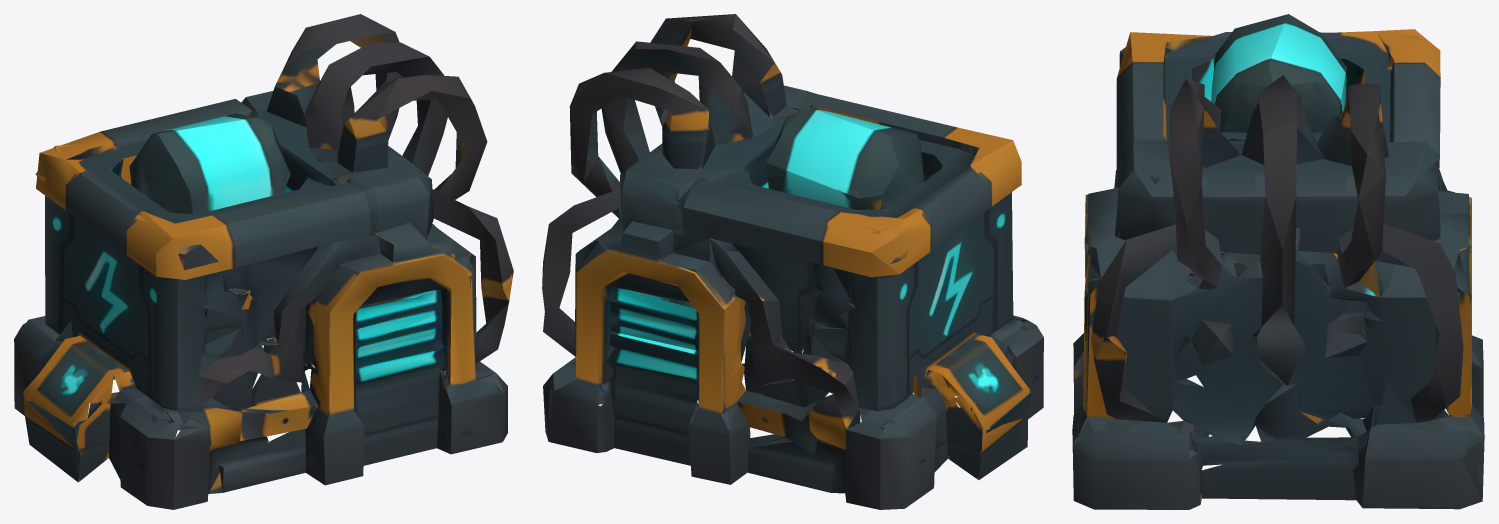
The model's file is NewBG6.fbx.
3 renders of one model, left to right at view 1: azimuth 30°, elevation 25°; view 2: azimuth 150°, elevation 25°; view 3: azimuth 270°, elevation 25°, orthographic. The views are drawn at different scales.
Parts seen in each view (by area): view 1: tmpptbs7ji_.ply; view 2: tmpptbs7ji_.ply; view 3: tmpptbs7ji_.ply.
Part boxes in pixels (box(x1,y1,x2,y2)): tmpptbs7ji_.ply: box(14, 14, 513, 509); tmpptbs7ji_.ply: box(542, 14, 1043, 509); tmpptbs7ji_.ply: box(1072, 14, 1484, 509).
Size of the model in its own units: 199 by 162 by 154.
1 material, 1 textured.
